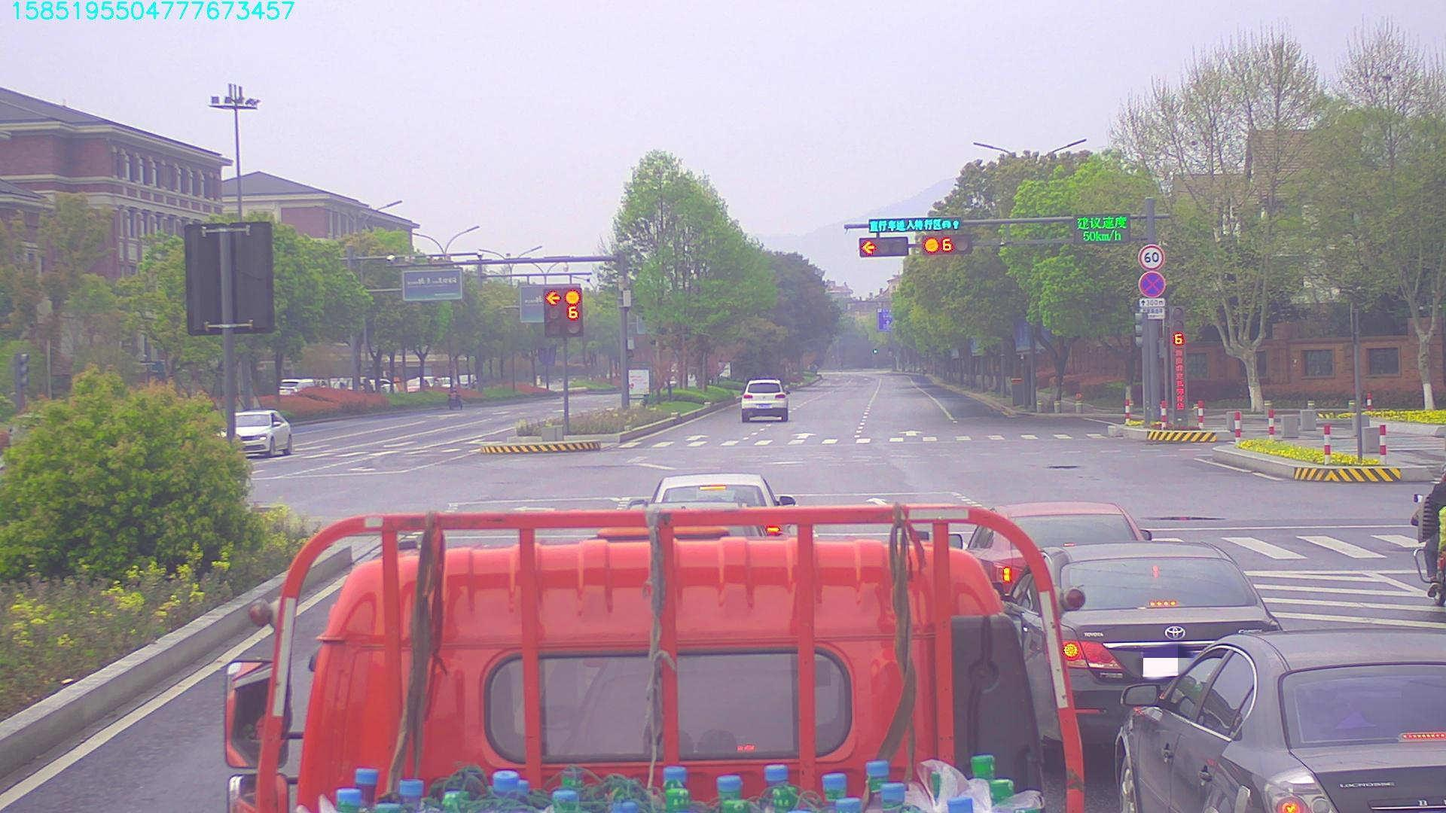red: (919, 233, 971, 257), (860, 235, 905, 252)
wait_on: (868, 215, 961, 230)
